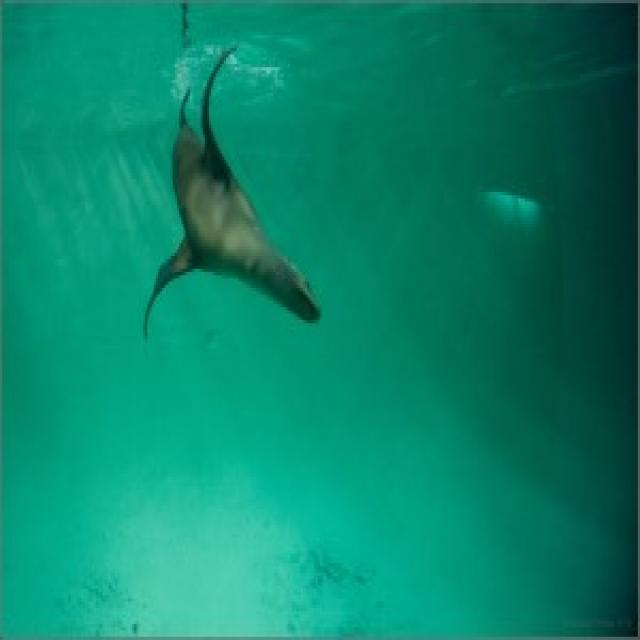Seal: (119, 60, 329, 363)
